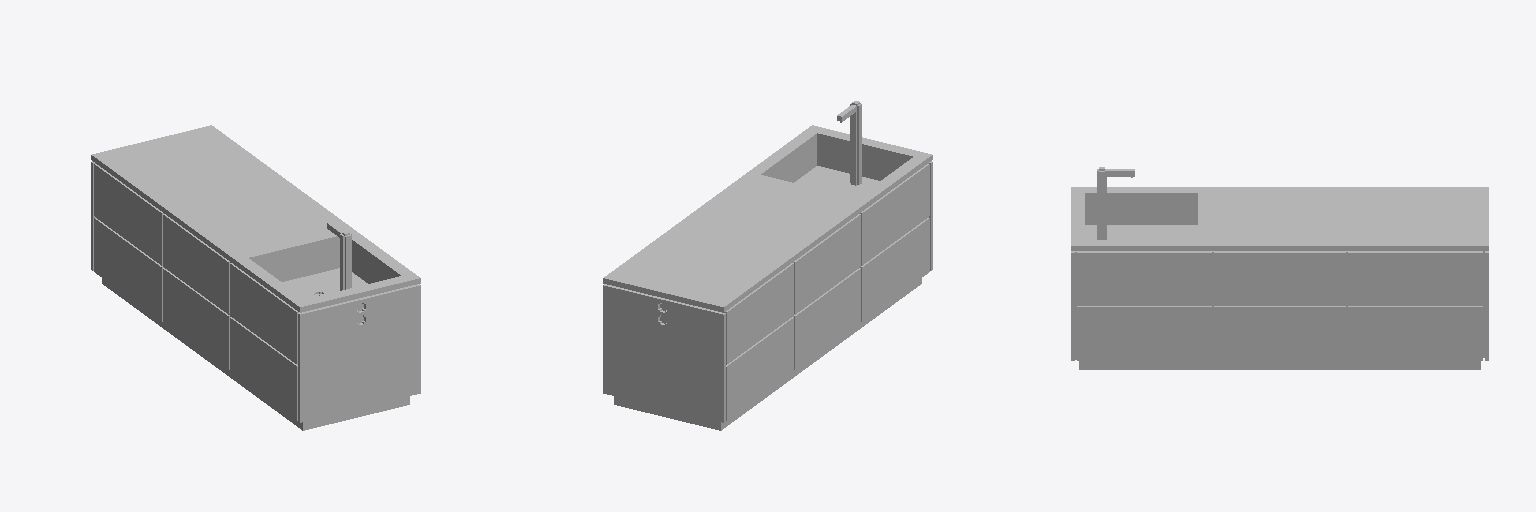
Rendered from table.obj.
3 views of the same model, side by side, from view 1: azimuth 30°, elevation 25°; view 2: azimuth 150°, elevation 25°; view 3: azimuth 270°, elevation 25° (orthographic).
Visible parts, largest first — view 1: object 1; view 2: object 1; view 3: object 1.
Part boxes in pixels (left/top/right/bottom): object 1: left=91, top=125, right=420, bottom=430; object 1: left=603, top=101, right=932, bottom=430; object 1: left=1071, top=167, right=1488, bottom=369.
Bounding box in the file's own units: 7 × 9.8 × 21.